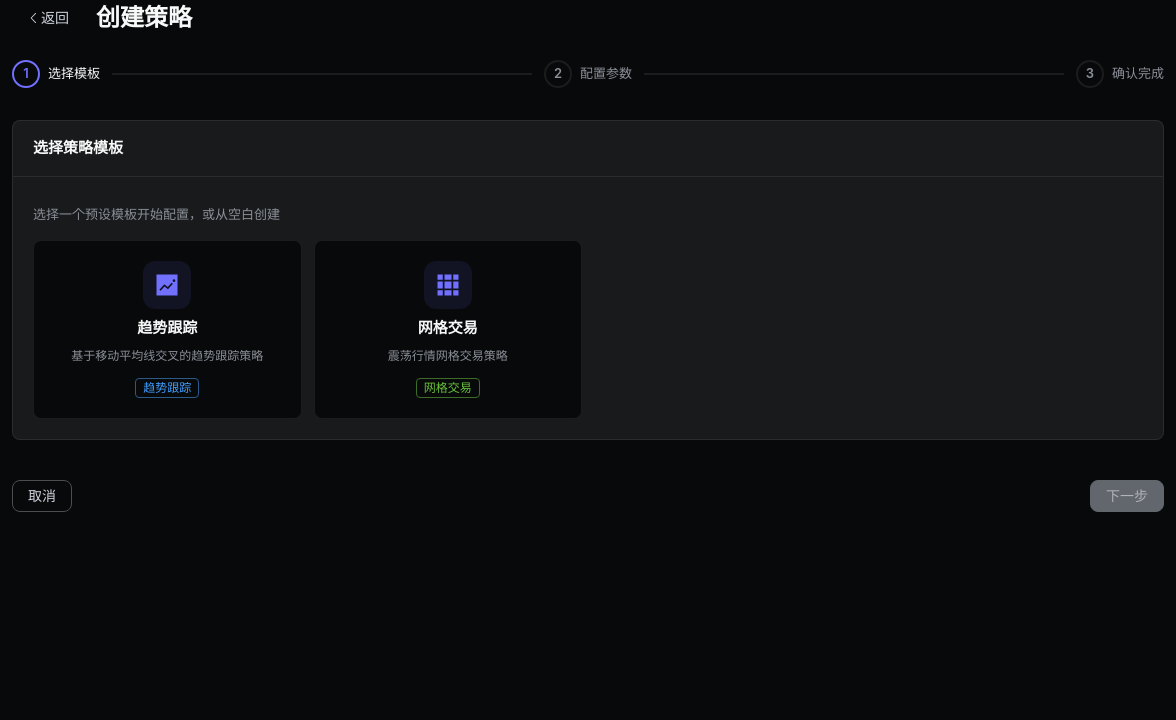
Test: StrategyCreateView › renders parameter preview in step 2
Click the element with class "template-card" showing "趋势跟踪 基于移动平均线交叉的趋势跟踪策略 趋势跟踪" at (167, 330), box [33,240,302,420]
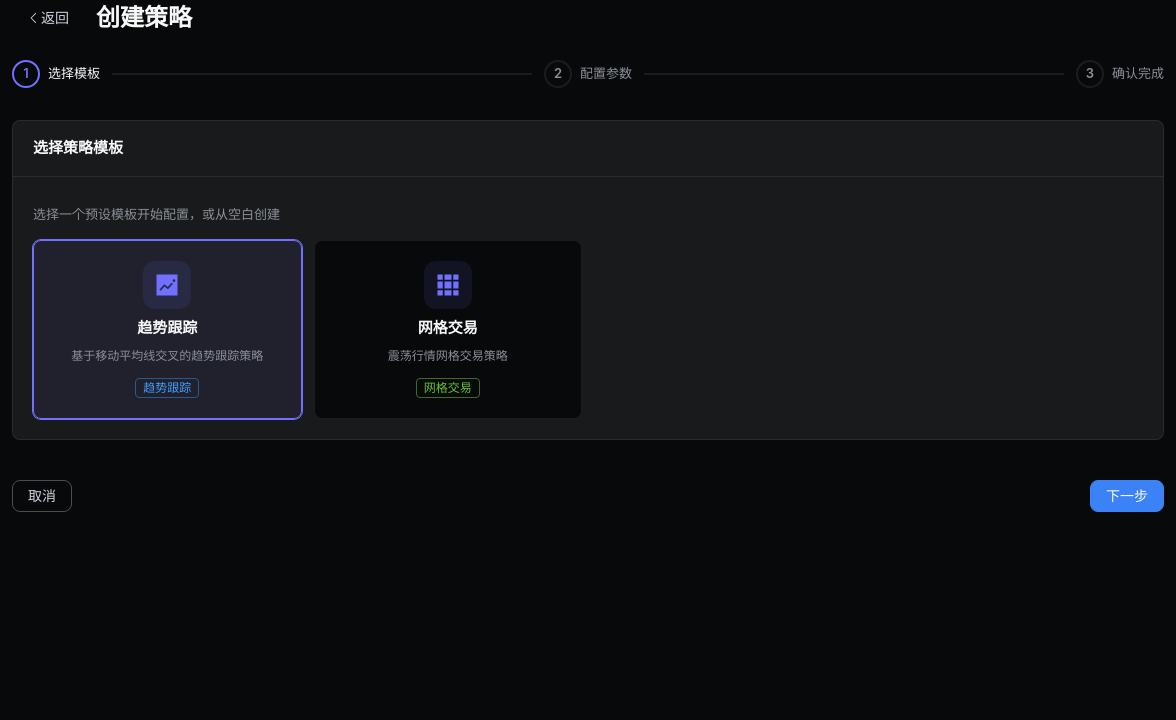
Click the button "下一步" at (1127, 496), box [1090,480,1164,512]
(page scrolled)
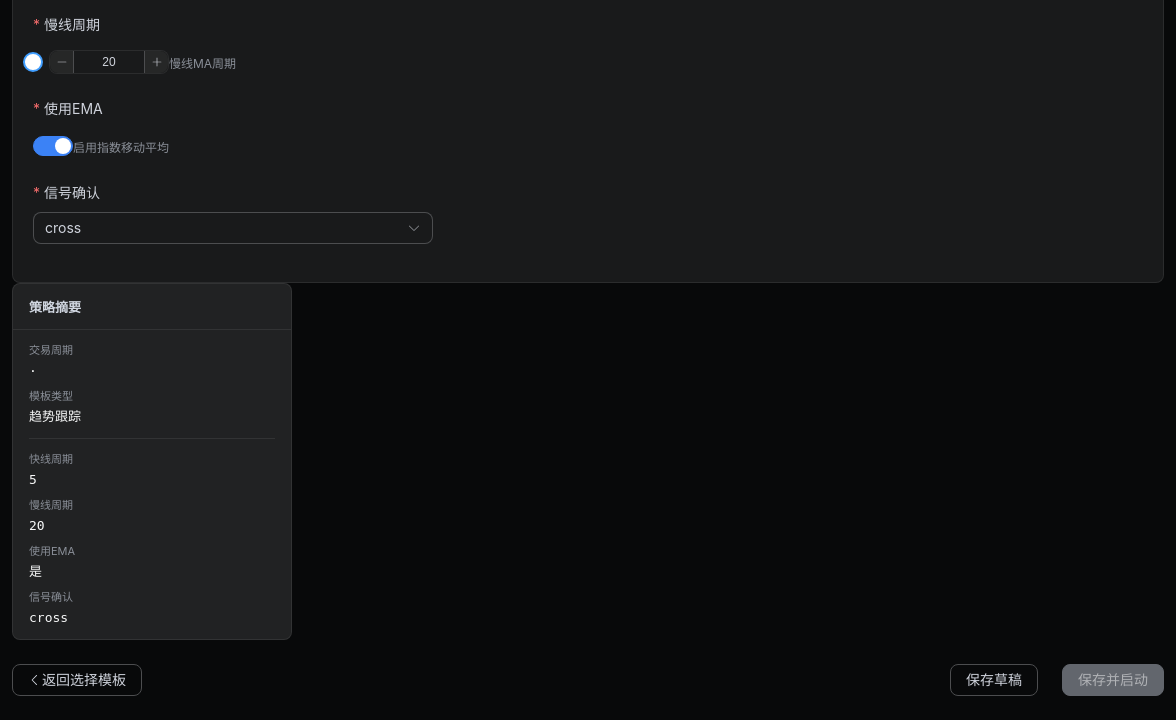
expect the element showing "策略摘要 交易周期 · 模板类型 趋势跟踪 快线周期 5 慢线周期 20 使用EMA 是 信号确认 cross" is shown: met, box [12,282,292,640]
